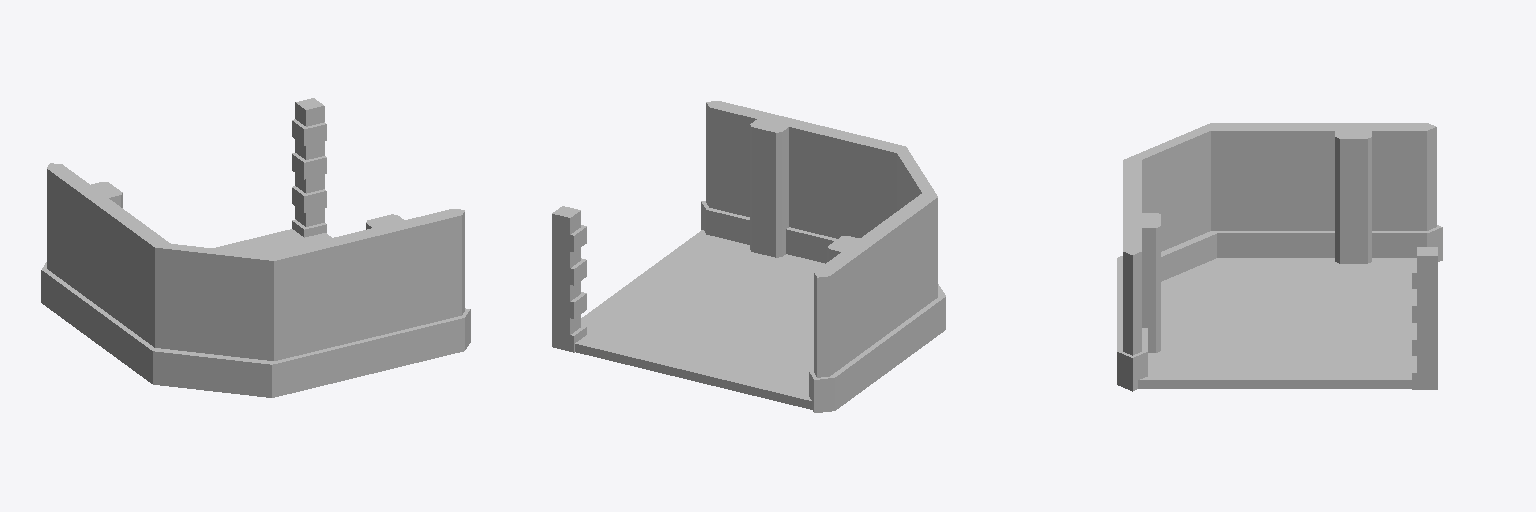
File: corner_05.obj
3 views of the same model, side by side, from view 1: azimuth 30°, elevation 25°; view 2: azimuth 150°, elevation 25°; view 3: azimuth 270°, elevation 25° (orthographic).
Visible parts, largest first — view 1: corner_02_11, wall_02_2, wall_02_3, wall_borderBricks_7, floor_02_10; view 2: floor_02_10, wall_02_2, wall_02_3, corner_02_11, wall_borderBricks_7; view 3: floor_02_10, wall_02_3, corner_02_11, wall_02_2, wall_borderBricks_7.
Boxes of the visible parts, x1=… form: corner_02_11: x1=115, y1=217, x2=337, y2=397; wall_02_2: x1=323, y1=209, x2=470, y2=381; wall_02_3: x1=41, y1=163, x2=134, y2=356; wall_borderBricks_7: x1=292, y1=98, x2=326, y2=237; floor_02_10: x1=213, y1=229, x2=331, y2=253; floor_02_10: x1=575, y1=230, x2=824, y2=409; wall_02_2: x1=701, y1=101, x2=848, y2=263; wall_02_3: x1=809, y1=219, x2=908, y2=412; corner_02_11: x1=833, y1=132, x2=945, y2=356; wall_borderBricks_7: x1=552, y1=206, x2=586, y2=352; floor_02_10: x1=1138, y1=258, x2=1416, y2=388; wall_02_3: x1=1272, y1=123, x2=1442, y2=263; corner_02_11: x1=1117, y1=123, x2=1284, y2=288; wall_02_2: x1=1117, y1=189, x2=1160, y2=391; wall_borderBricks_7: x1=1412, y1=247, x2=1437, y2=389.
Size of the model in its own units: 2.21 by 1 by 2.21.